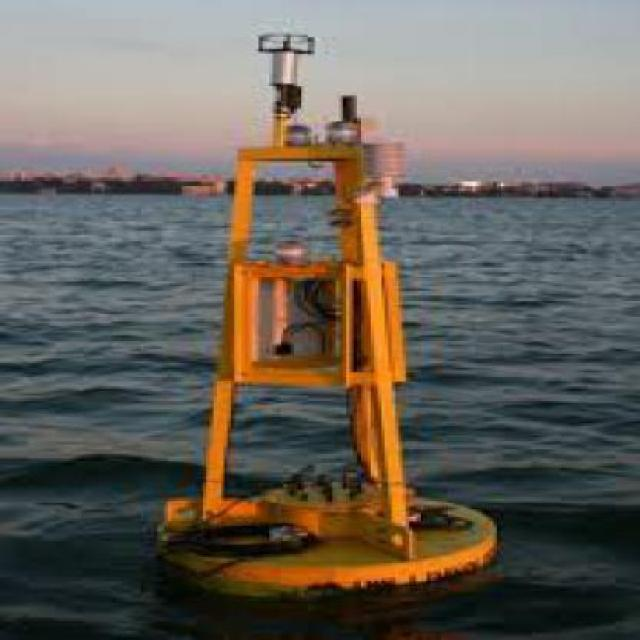buoy: (134, 26, 516, 608)
